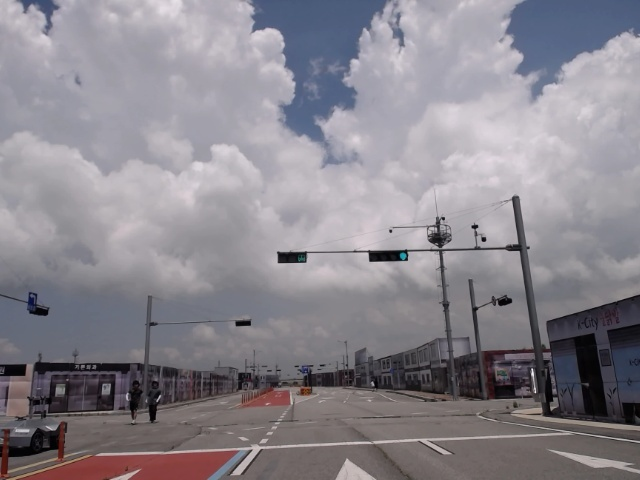straight_green_4: (370, 250, 408, 261)
